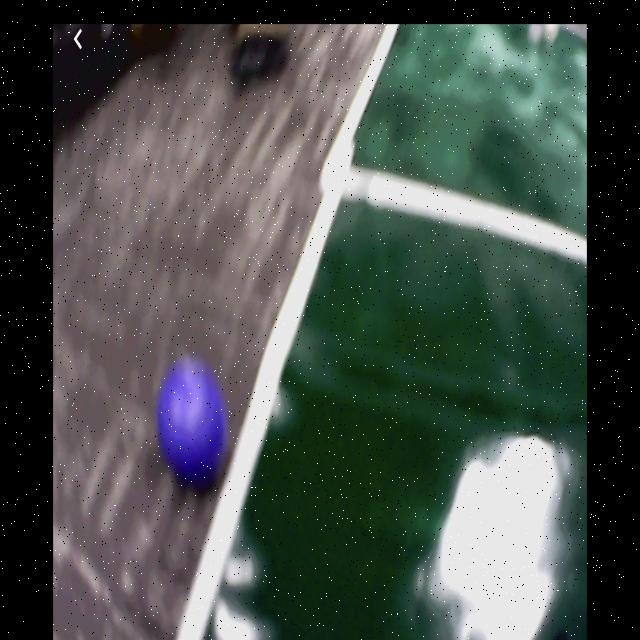ball: (161, 372, 225, 475)
